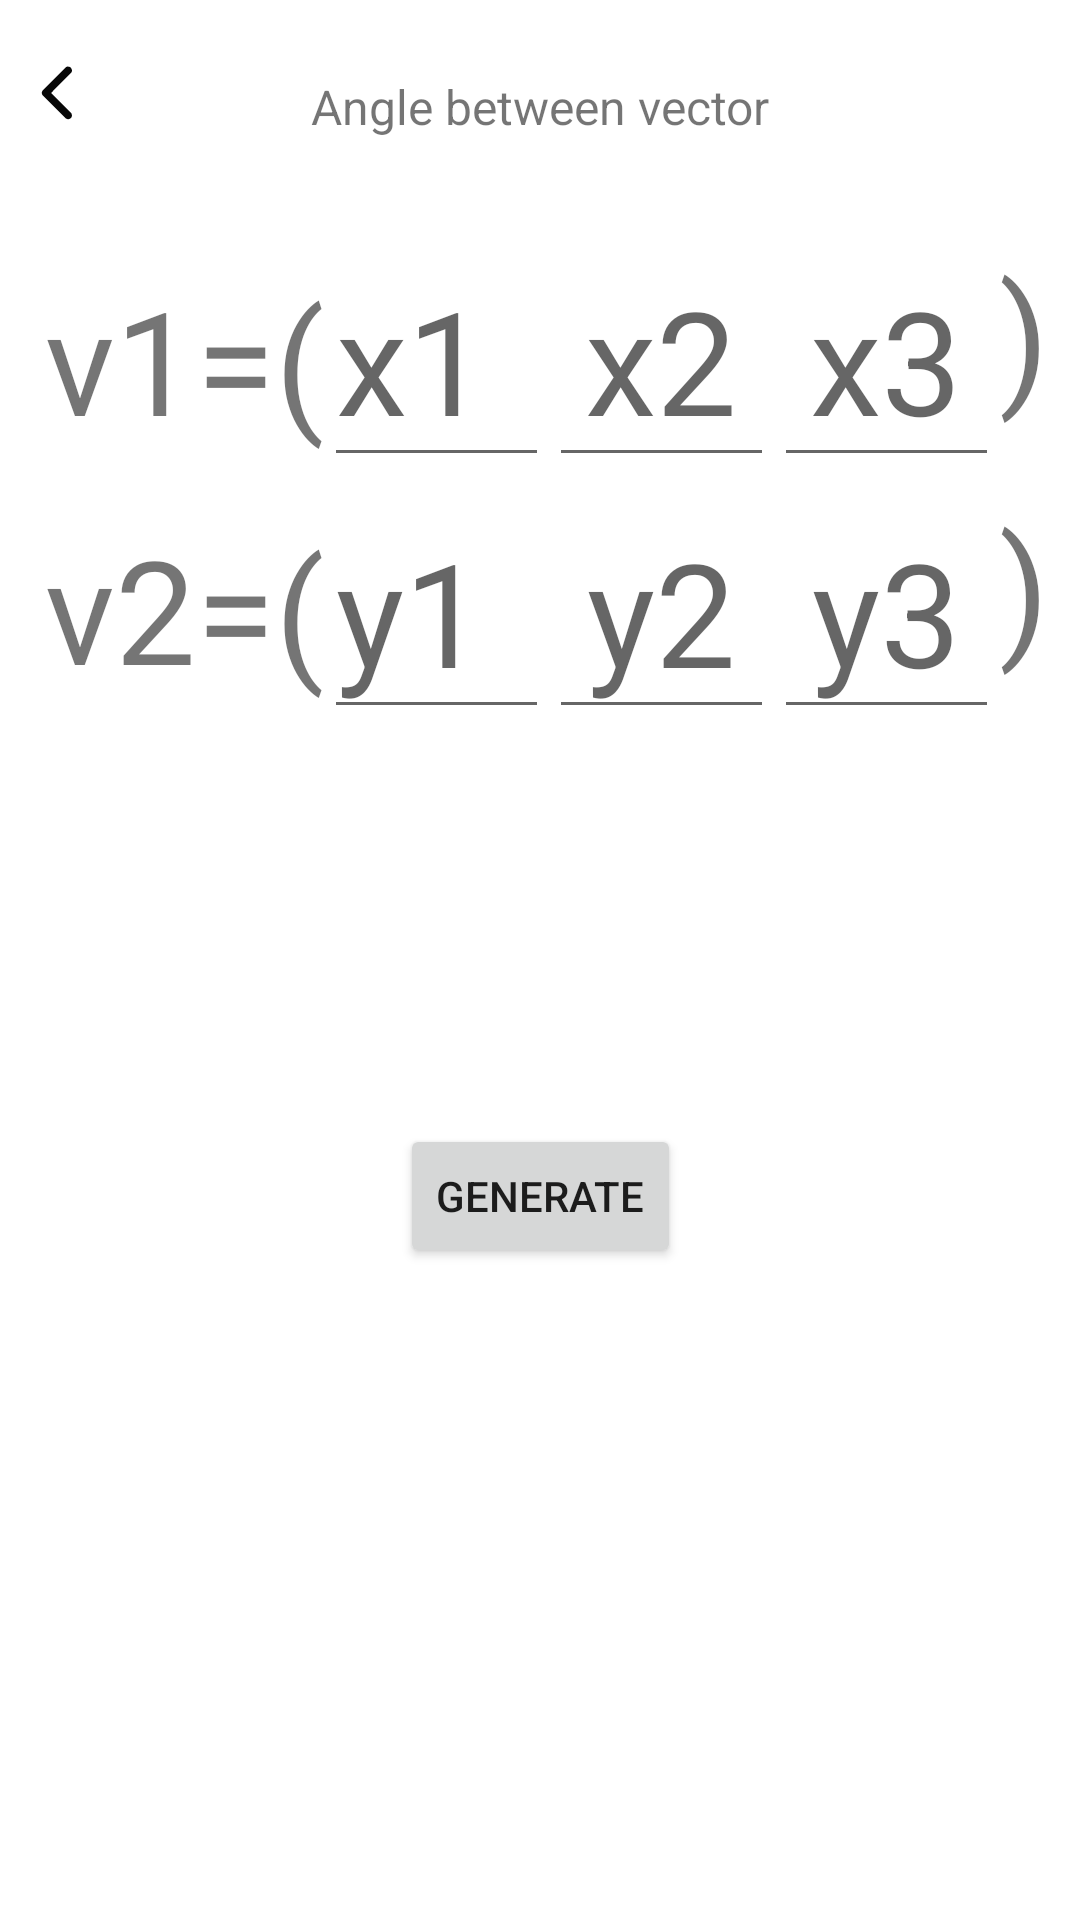

Icon click points for this 1080px×1920px phone screenshot, format point (x, y):
back: point (56, 93)
